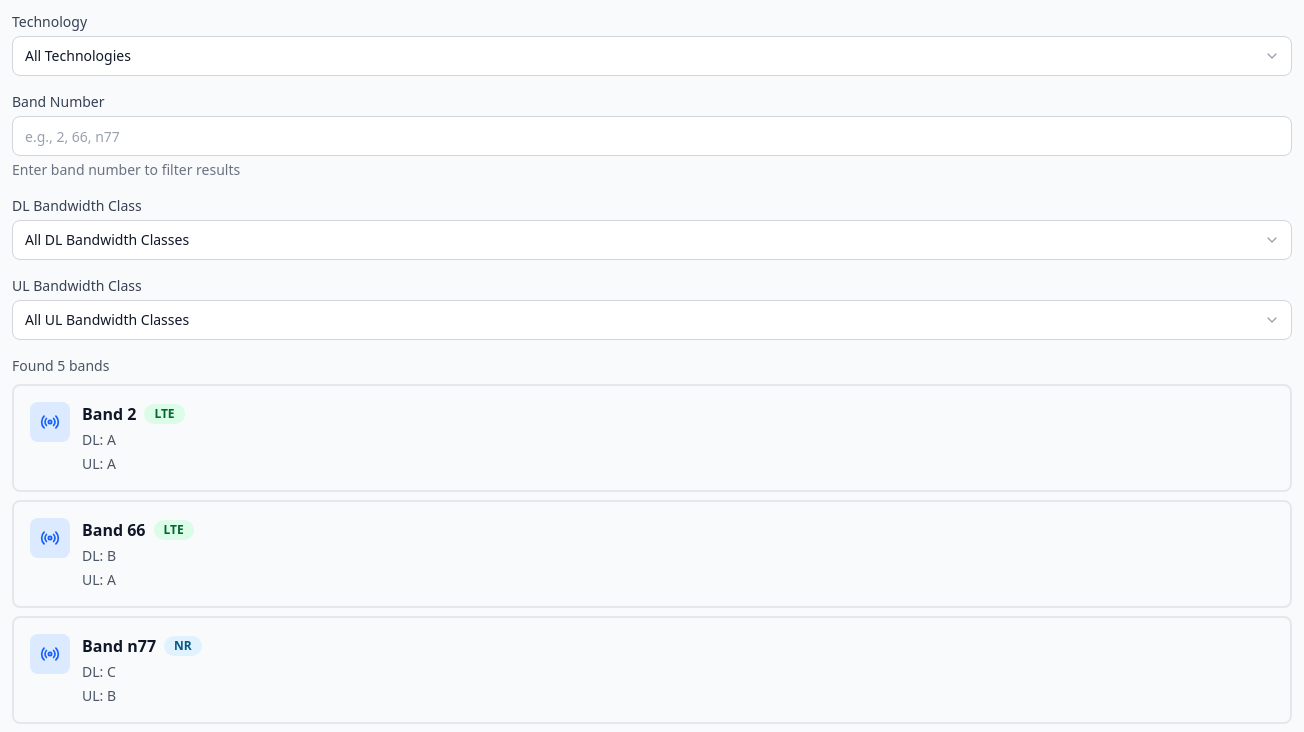
Test: BandSearch › Bandwidth class filtering › filters bands by DL bandwidth class
This screenshot has width=1304, height=732.
Check: the text "Found 5 bands" is shown, box x1=12 y1=356 x2=109 y2=375
// Select DL bandwidth class "A"
Select "A" in the dropdown labelled "DL Bandwidth Class" at [652, 240], box x1=12 y1=220 x2=1292 y2=260
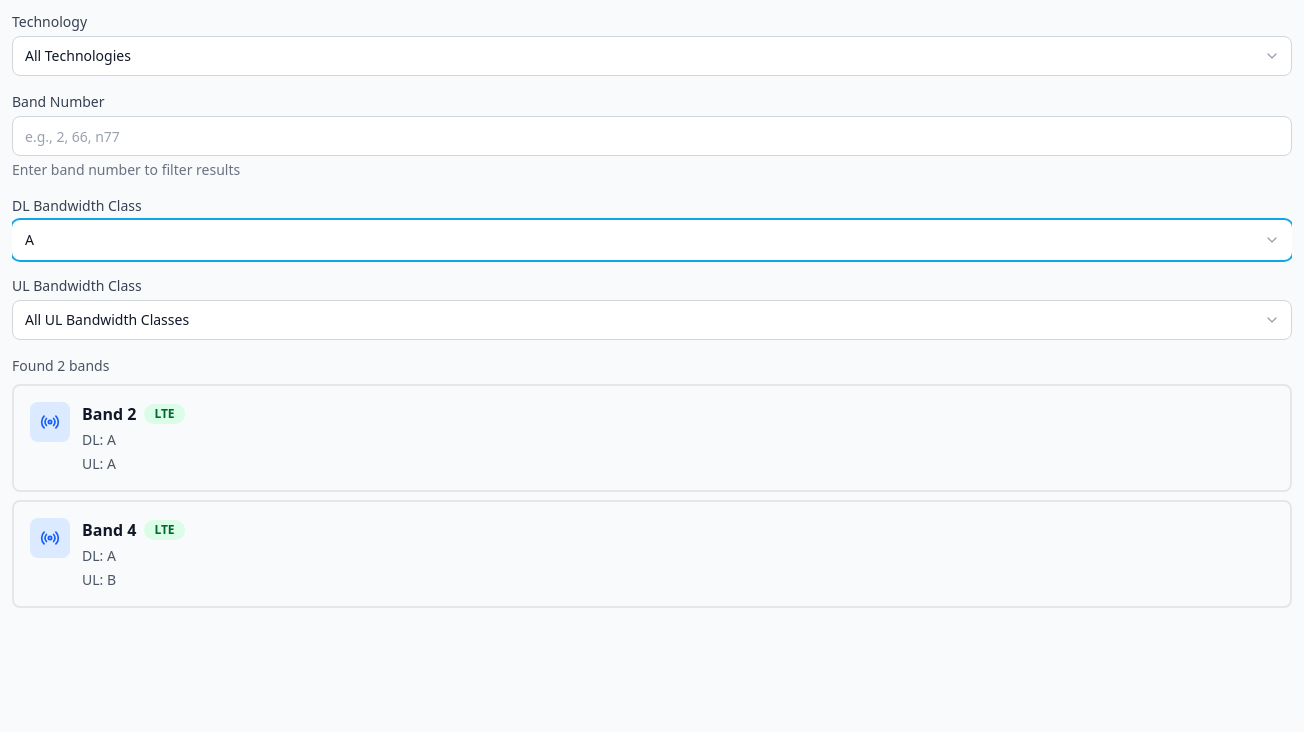
Check: the text "Found 2 bands" is shown, box x1=12 y1=356 x2=109 y2=375
Check: the button "Band 66" is gone
Check: the button "Band n77" is gone
